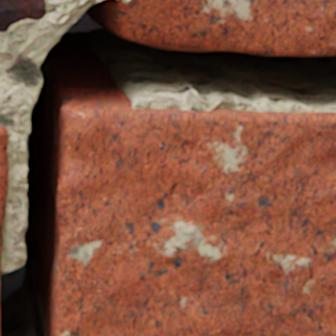brick: (54, 106, 335, 335), (120, 0, 335, 55), (0, 0, 46, 31), (0, 125, 8, 273)
crack: (0, 0, 335, 335)
